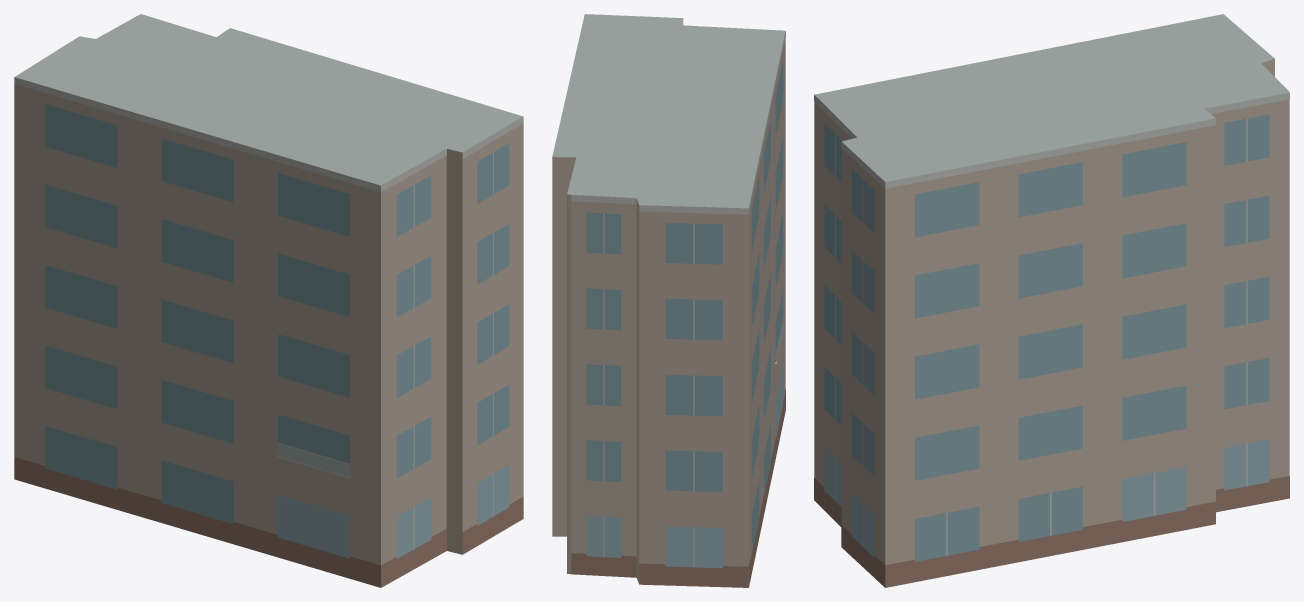
Rendered from survey-upis-32744244.glb.
3 views of the same model, side by side, from view 1: azimuth 30°, elevation 25°; view 2: azimuth 150°, elevation 25°; view 3: azimuth 270°, elevation 25° (orthographic). The views are drawn at different scales.
Parts seen in each view (by area): view 1: survey-upis-32744244.tmp; view 2: survey-upis-32744244.tmp; view 3: survey-upis-32744244.tmp.
Part boxes in pixels (<box>): survey-upis-32744244.tmp: <box>14,14,523,587</box>; survey-upis-32744244.tmp: <box>552,14,785,587</box>; survey-upis-32744244.tmp: <box>814,14,1289,587</box>.
Bounding box in the file's own units: 13.03 × 14.65 × 15.57.
